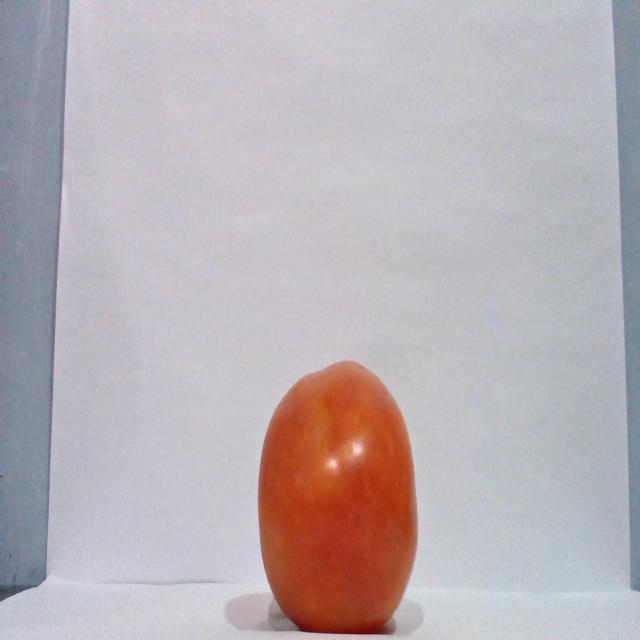Red: (256, 358, 419, 633)
